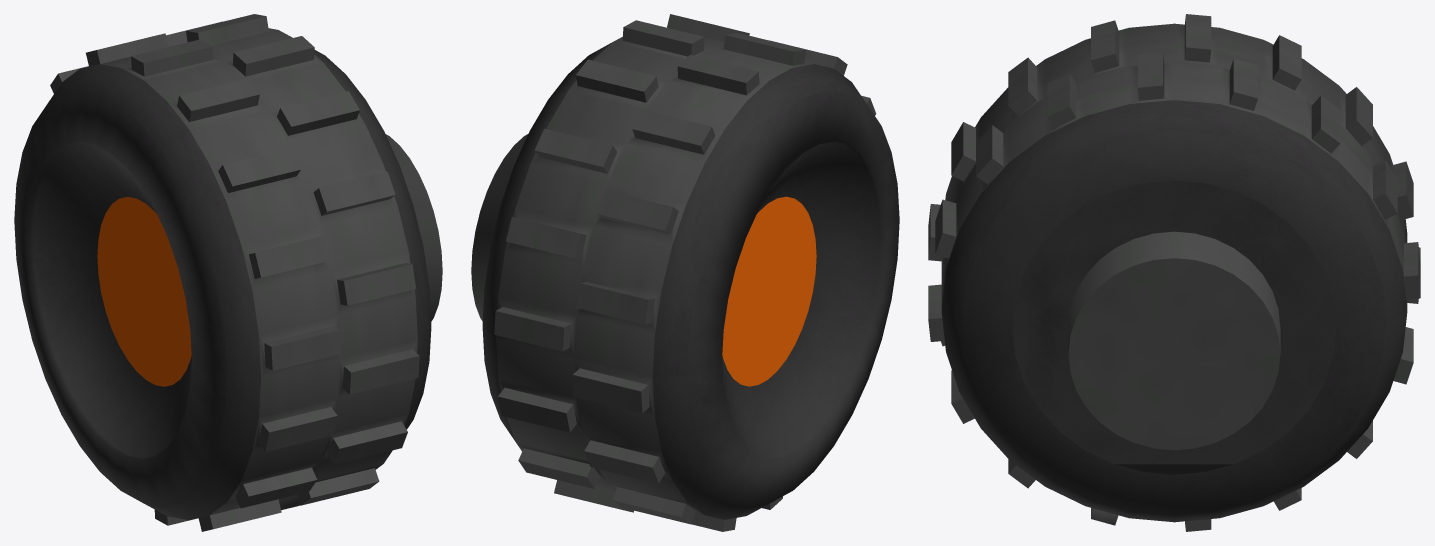
Rendered from IEC Nomad Wheel.obj.
3 views of the same model, side by side, from view 1: azimuth 30°, elevation 25°; view 2: azimuth 150°, elevation 25°; view 3: azimuth 270°, elevation 25° (orthographic).
Visible parts, largest first — view 1: IEC_Nomad_Wheel_Cylinder; view 2: IEC_Nomad_Wheel_Cylinder; view 3: IEC_Nomad_Wheel_Cylinder.
Boxes of the visible parts, x1=… form: IEC_Nomad_Wheel_Cylinder: x1=14, y1=14, x2=442, y2=531; IEC_Nomad_Wheel_Cylinder: x1=471, y1=14, x2=899, y2=531; IEC_Nomad_Wheel_Cylinder: x1=928, y1=14, x2=1420, y2=531.
Bounding box in the file's own units: 1.24 × 1.9 × 1.9.
